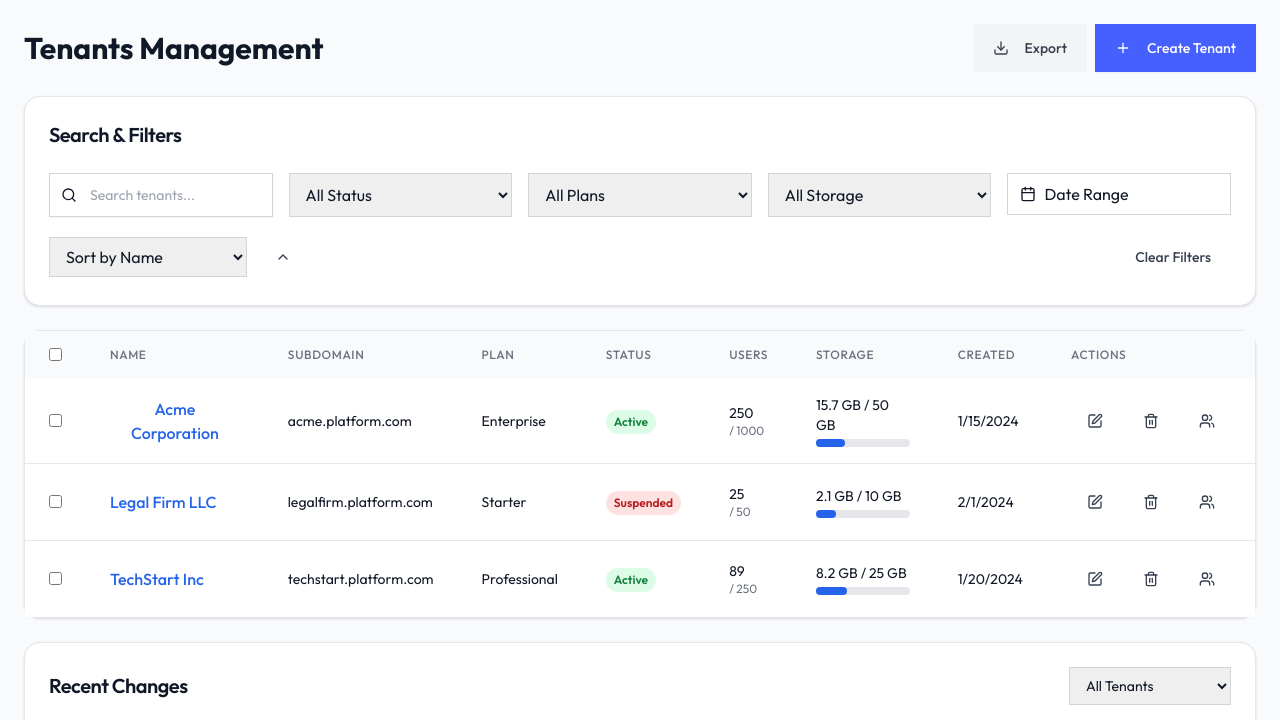
it: TenantsManagementPage › Create New Tenant Form › should open create tenant modal when button clicked
Step 1. Click the button with test id "create-tenant-button" → (1176, 48), box [1095,24,1256,72]
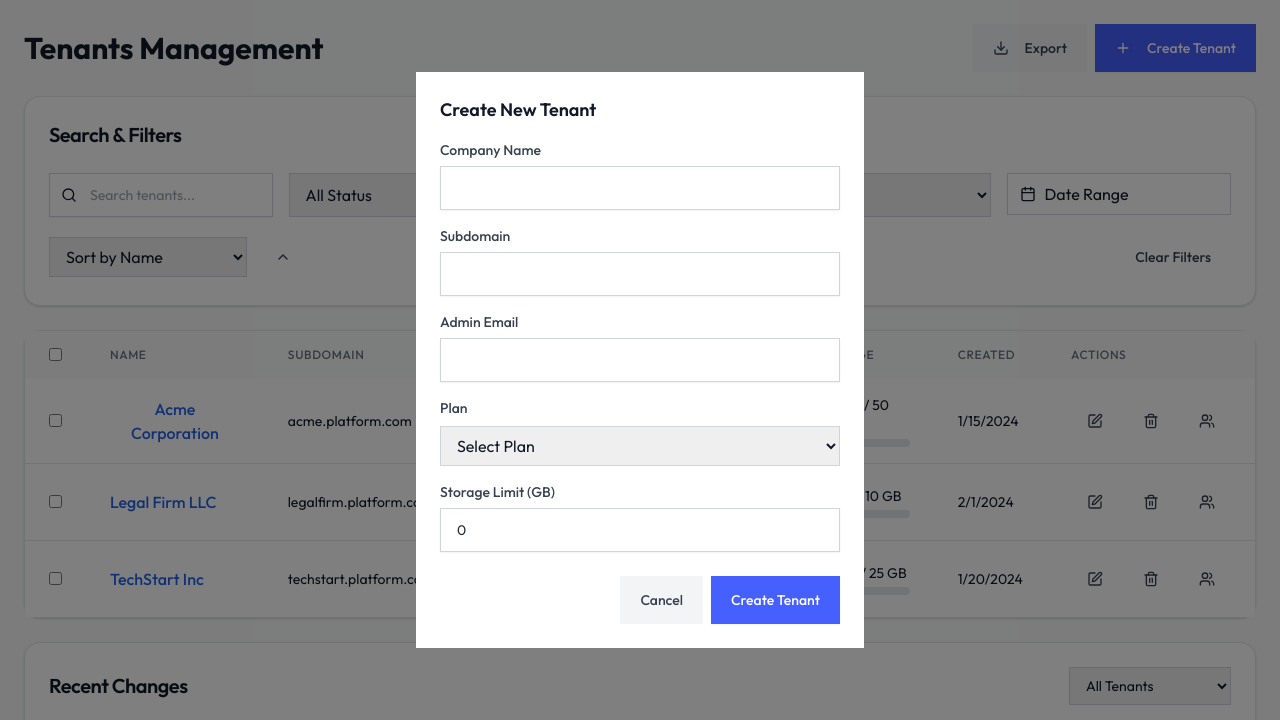
Result: the element with test id "create-tenant-modal" is shown
Result: the heading "Create New Tenant" is shown at [440,98,596,121]
